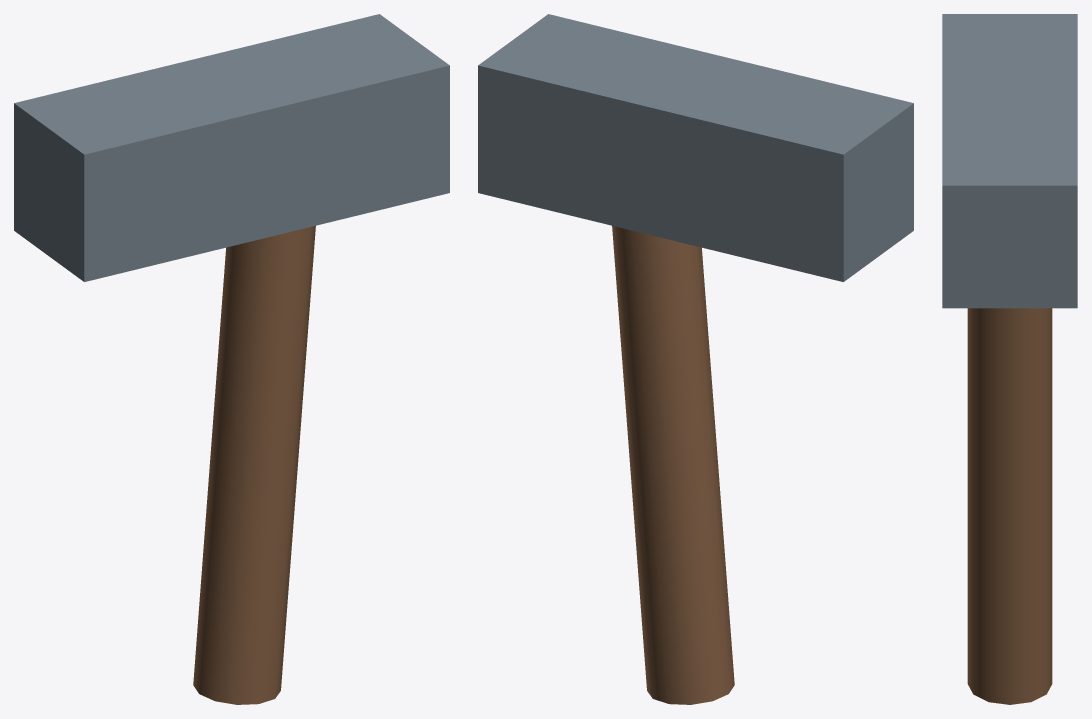
Rendered from hammer.glb.
The picture shows the model from 3 angles, left to right: view 1: azimuth 30°, elevation 25°; view 2: azimuth 150°, elevation 25°; view 3: azimuth 270°, elevation 25°; orthographic projection. The views are drawn at different scales.
Size of the model in its own units: 0.72 by 1.14 by 0.24.
